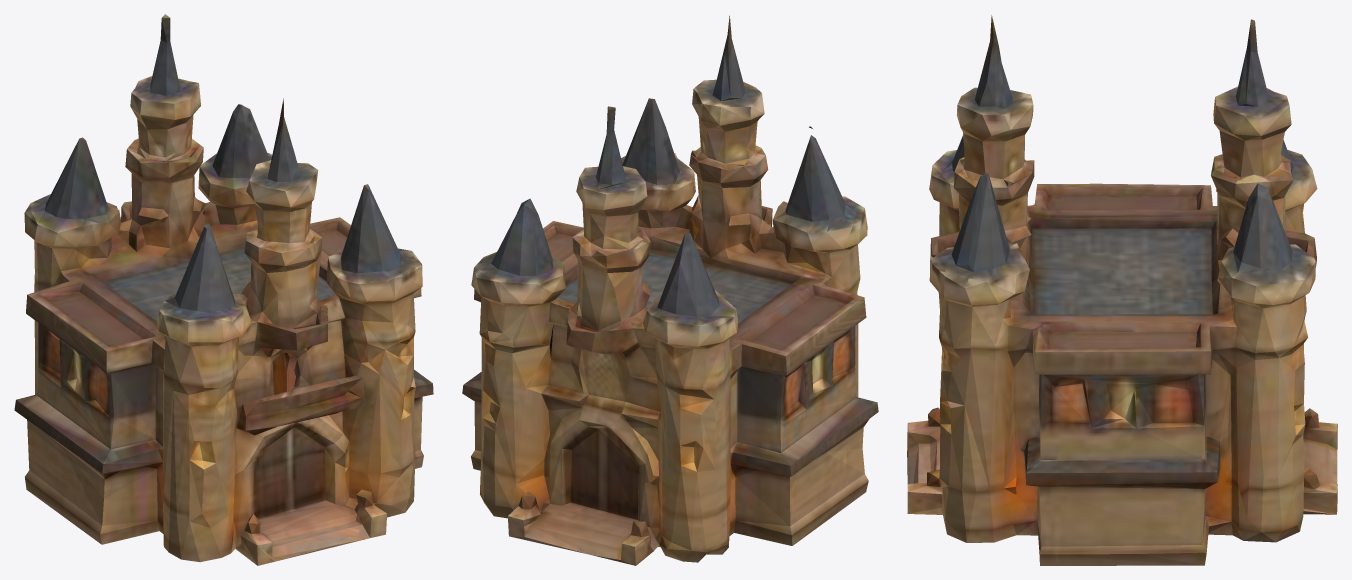
Rendered from castle_sandstone_b_lod1.glb.
3 renders of one model, left to right at view 1: azimuth 30°, elevation 25°; view 2: azimuth 150°, elevation 25°; view 3: azimuth 270°, elevation 25°, orthographic. The views are drawn at different scales.
Parts seen in each view (by area): view 1: castle_sandstone_b_lod1; view 2: castle_sandstone_b_lod1; view 3: castle_sandstone_b_lod1.
Part boxes in pixels (x1,y1,x2,y2): castle_sandstone_b_lod1: (14, 14, 433, 565); castle_sandstone_b_lod1: (462, 15, 878, 565); castle_sandstone_b_lod1: (907, 15, 1337, 565).
Bounding box in the file's own units: 14.7 × 18.07 × 15.11.
1 material, 1 textured.
